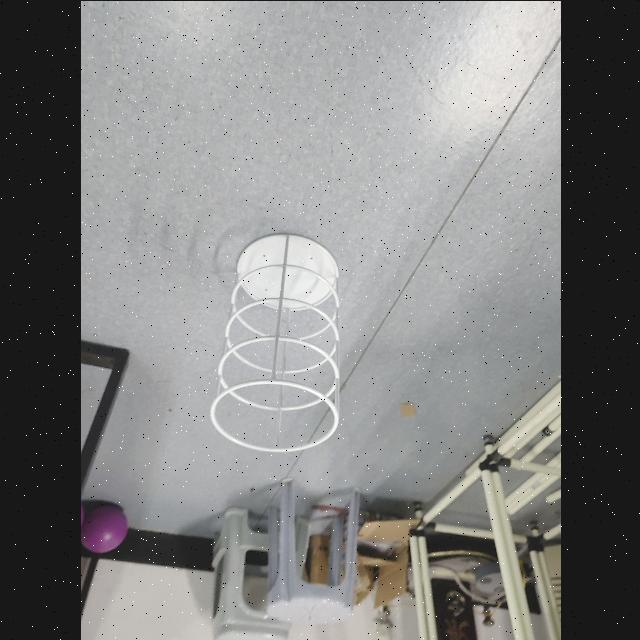S: (206, 230, 348, 454)
